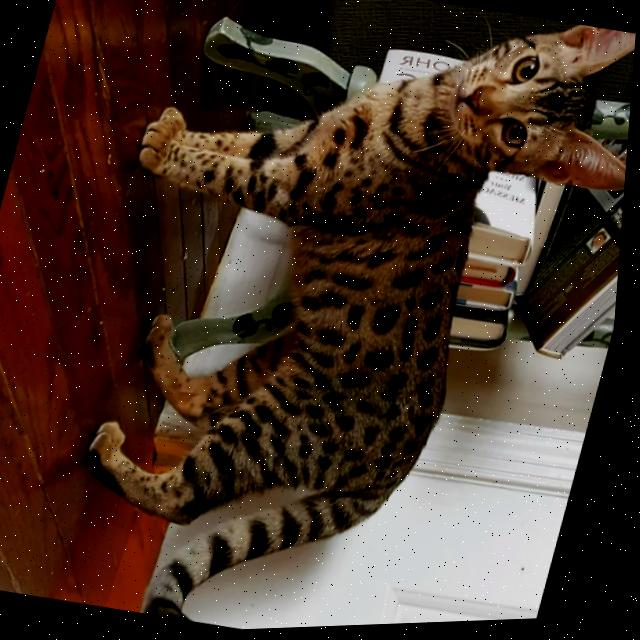Savannah: (21, 0, 640, 638)
